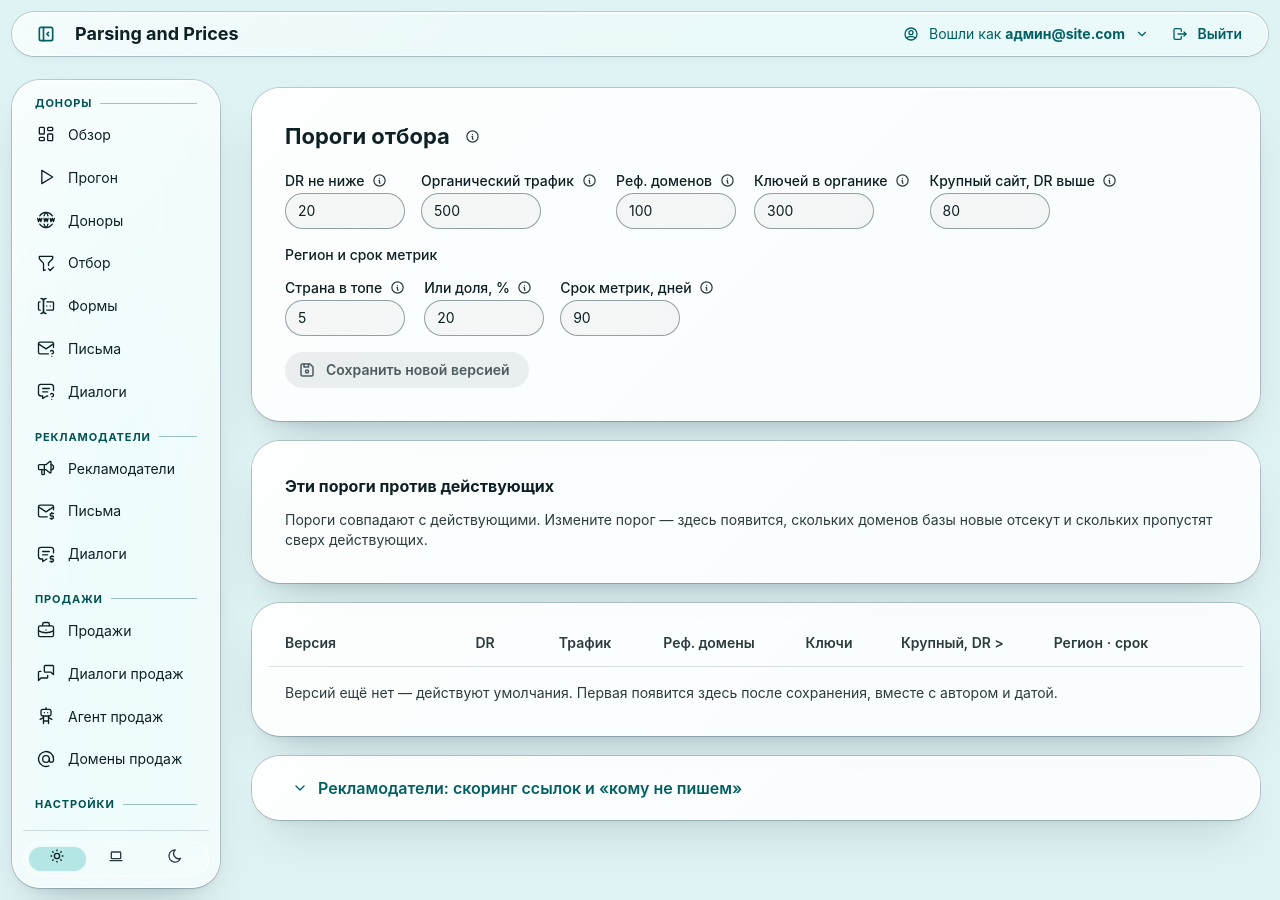
Scenario: Этап 2 на экране «Пороги» › отказ сервера — причина словами
The width and height of the screenshot is (1280, 900).
Click the button "Рекламодатели: скоринг ссылок и «кому не пишем»": (517, 788) left=285, top=773, right=749, bottom=803
(page scrolled)
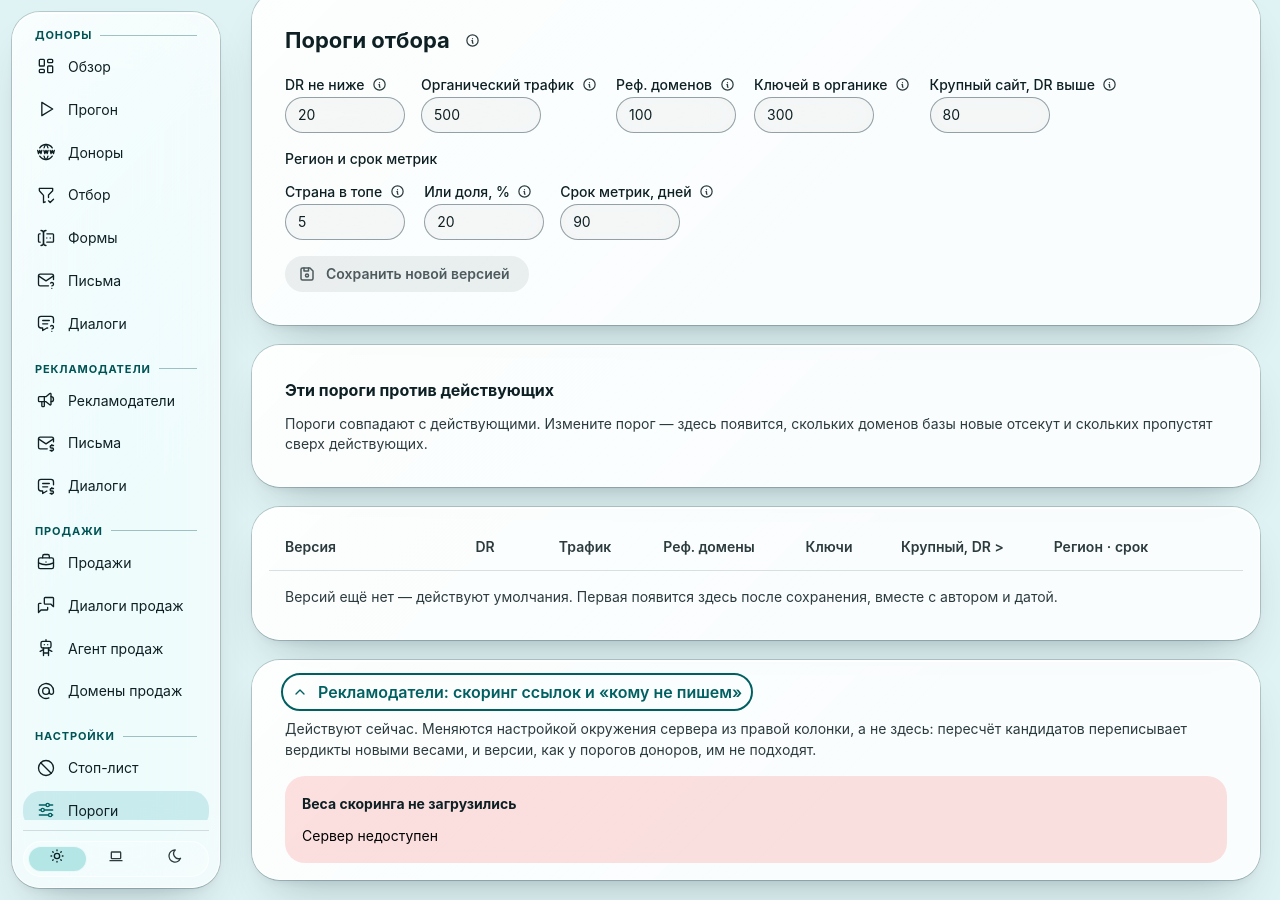
Check: the text "Веса скоринга не загрузились" is shown, box left=302, top=793, right=516, bottom=815
Check: the text "Сервер недоступен" is shown, box left=302, top=826, right=438, bottom=844
